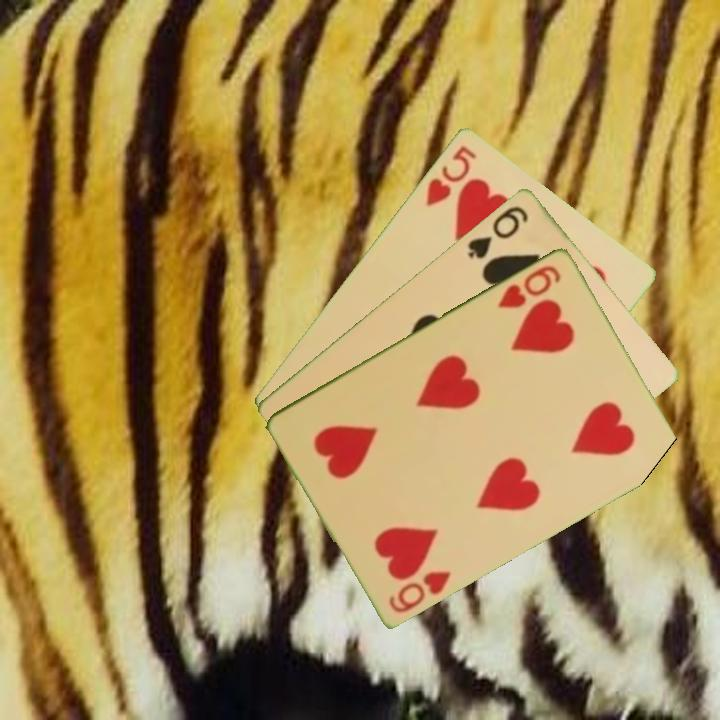5h: (422, 141, 479, 209)
6h: (494, 261, 564, 311), (385, 566, 454, 616)
6s: (464, 201, 531, 262)
